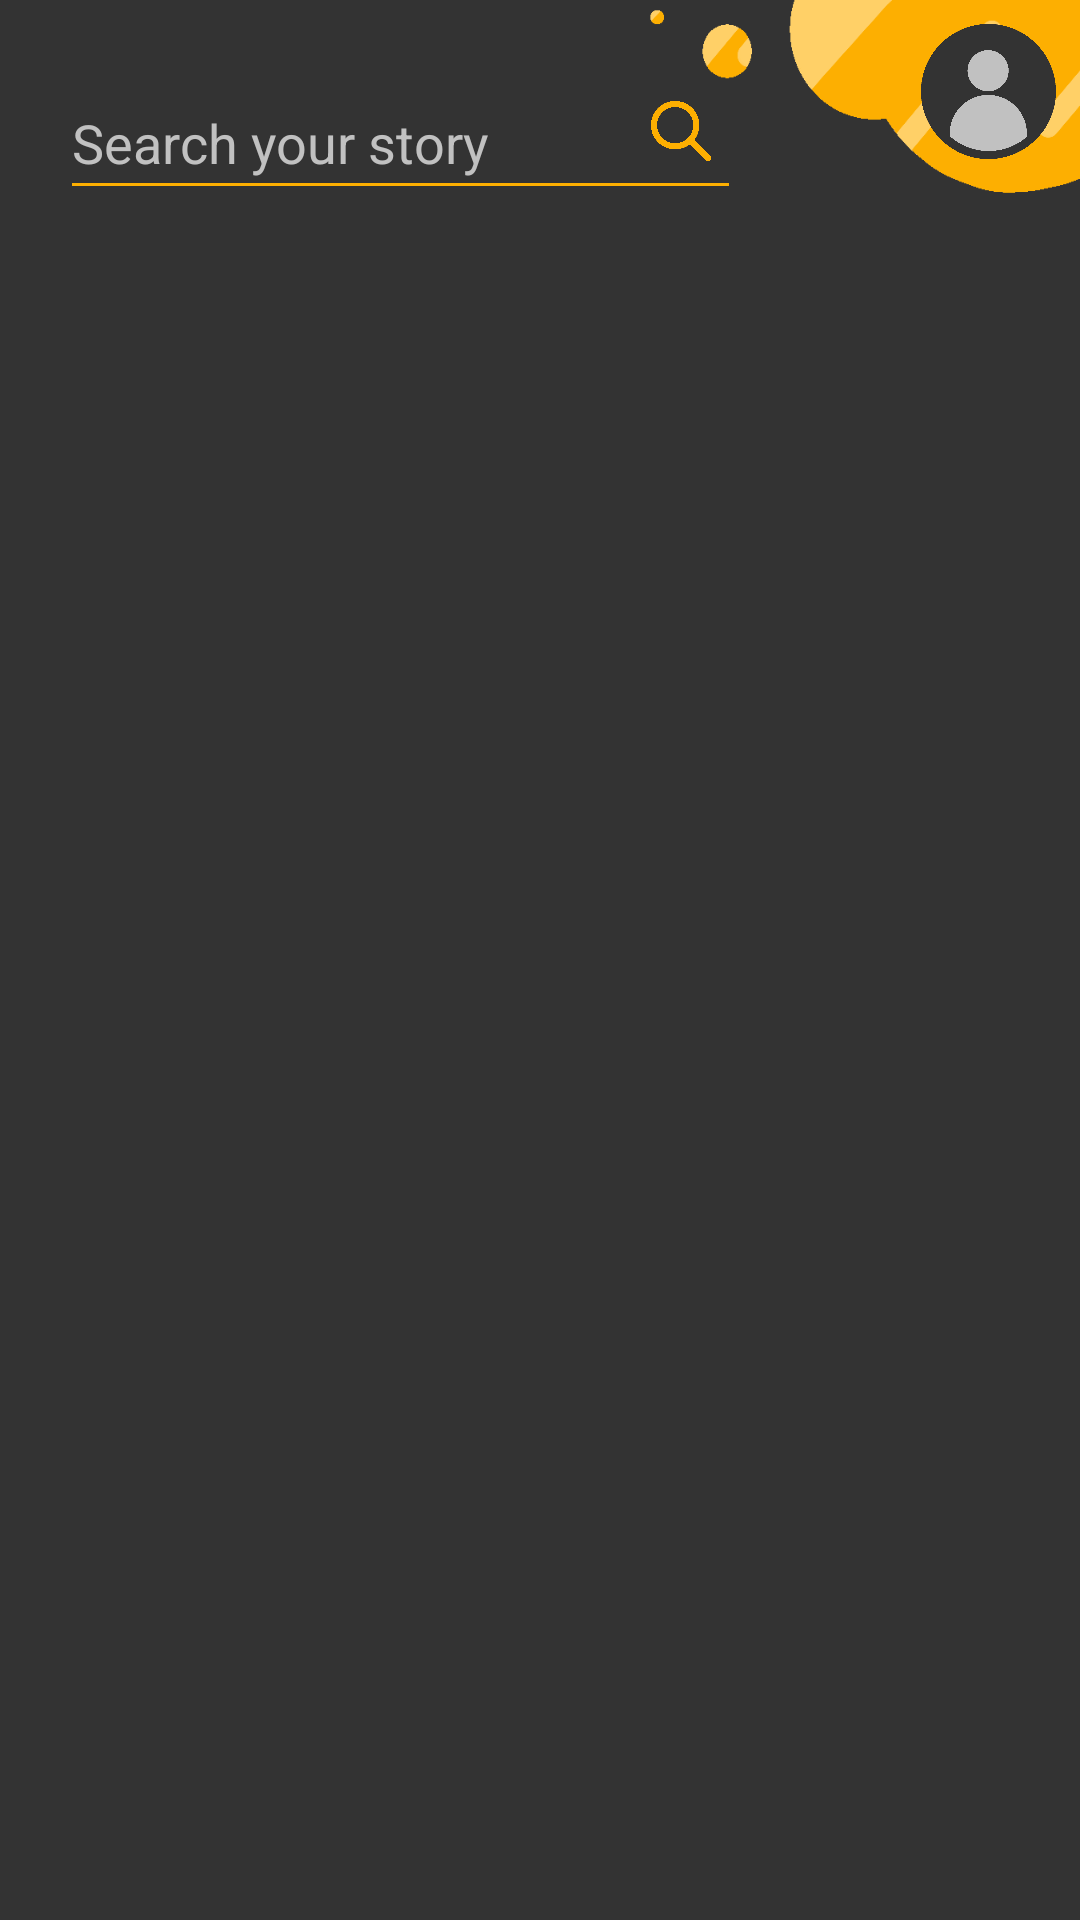

Screen size 1080 × 1920. Icon name, then its center in pixels as [x,y]:
chercher: [681,131]
profile: [988,91]
